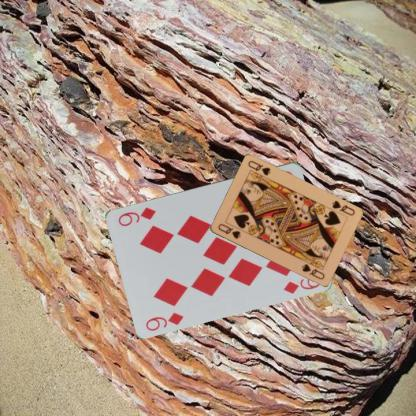9d: (143, 309, 185, 332)
Qs: (329, 198, 356, 217), (215, 222, 242, 240)
